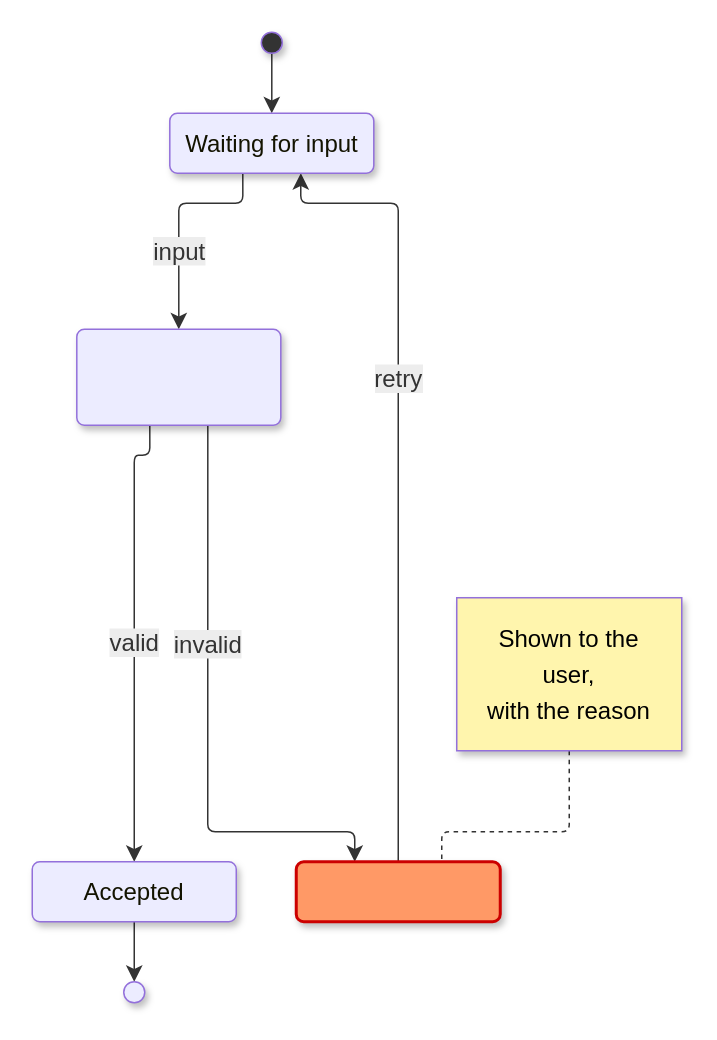
This 717x1040 diagram has some shape labels left out. Here are the shapes that lost their labels. From the top down, the centre of each, then its label:
At pixel 179 379: "Validating the request".
At pixel 399 893: "Rejected".
